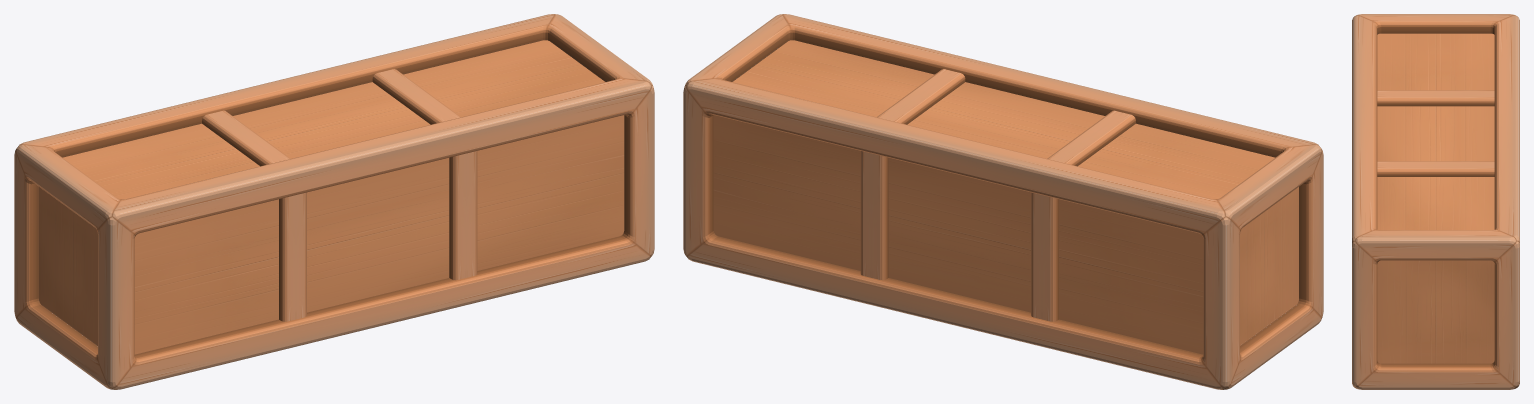
The model's file is woodenbox_3.fbx.
The picture shows the model from 3 angles, left to right: view 1: azimuth 30°, elevation 25°; view 2: azimuth 150°, elevation 25°; view 3: azimuth 270°, elevation 25°; orthographic projection. The views are drawn at different scales.
Parts seen in each view (by area): view 1: woodenbox_3; view 2: woodenbox_3; view 3: woodenbox_3.
Part boxes in pixels (x1=…): woodenbox_3: x1=14, y1=14, x2=654, y2=389; woodenbox_3: x1=683, y1=14, x2=1323, y2=389; woodenbox_3: x1=1352, y1=14, x2=1519, y2=389.
Size of the model in its own units: 640 by 200 by 200.
